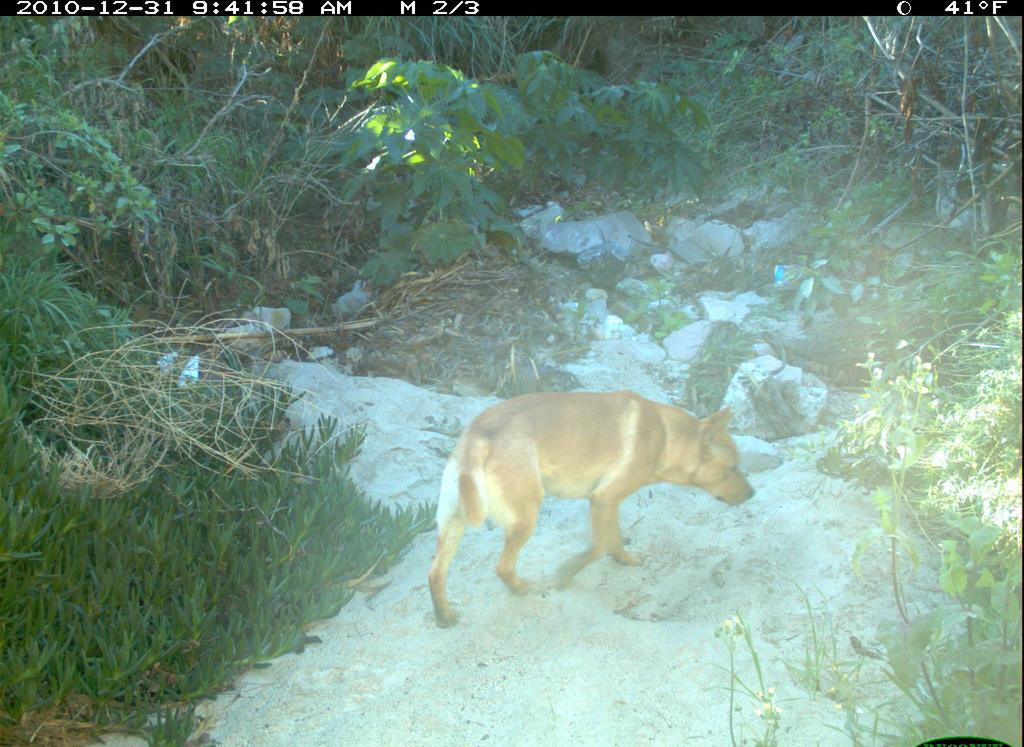dog: (422, 392, 762, 641)
